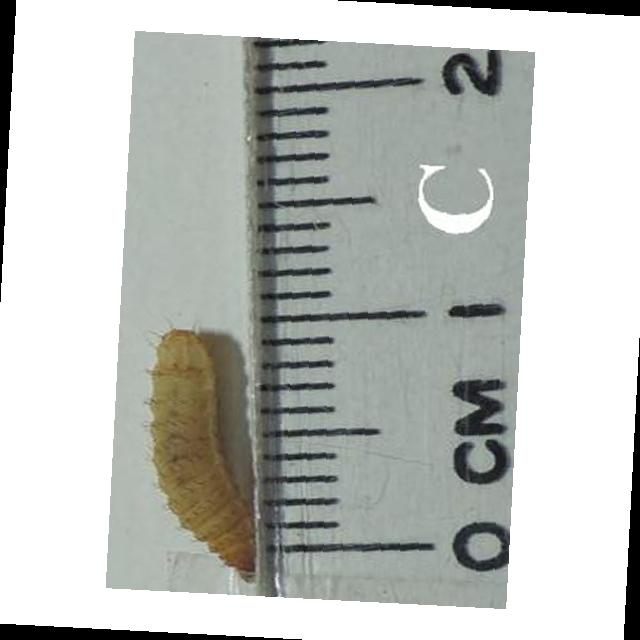Maggot: (147, 329, 262, 586)
